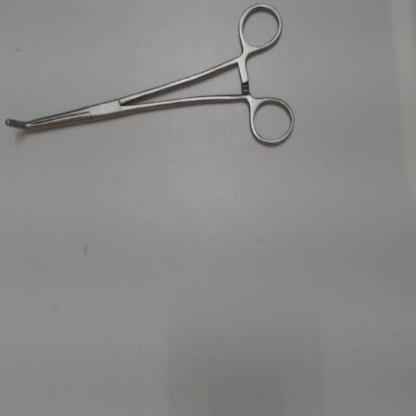Lahey Forceps: (2, 1, 298, 153)
